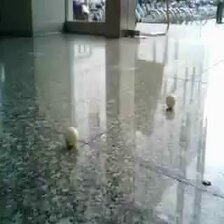w: (64, 126, 79, 146), (164, 94, 177, 110)
